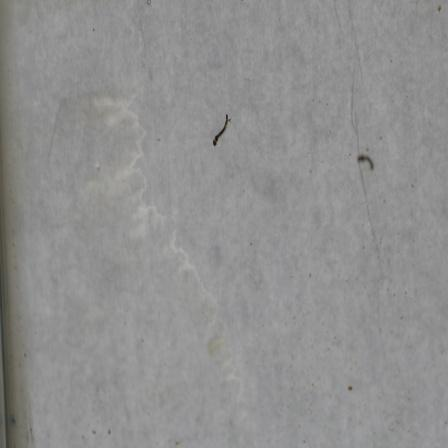Jentik-Nyamuk: (209, 111, 233, 149)
